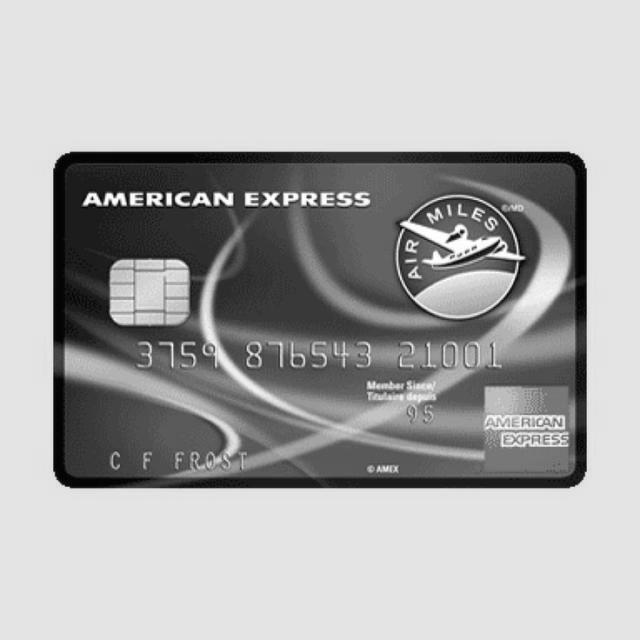card: (52, 152, 588, 490)
